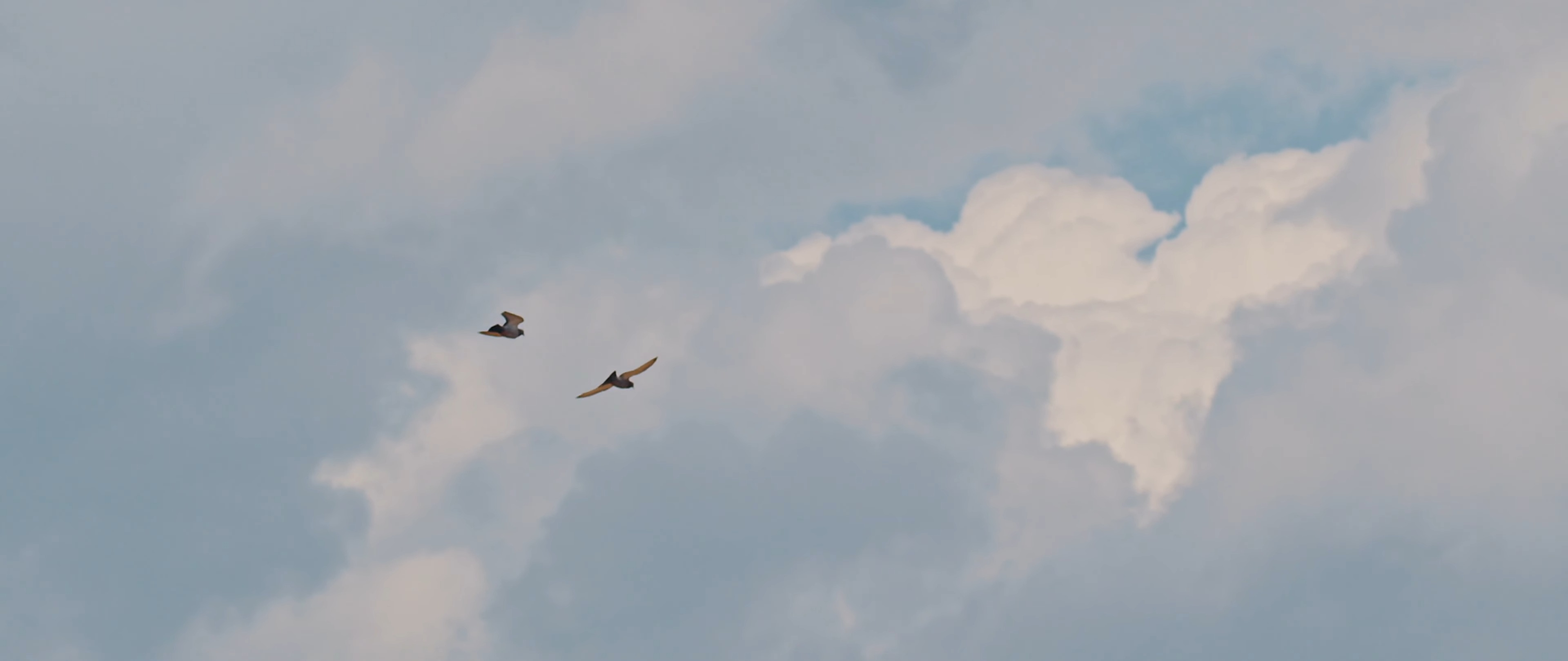bird: (571, 353, 681, 407), (473, 308, 531, 349)
